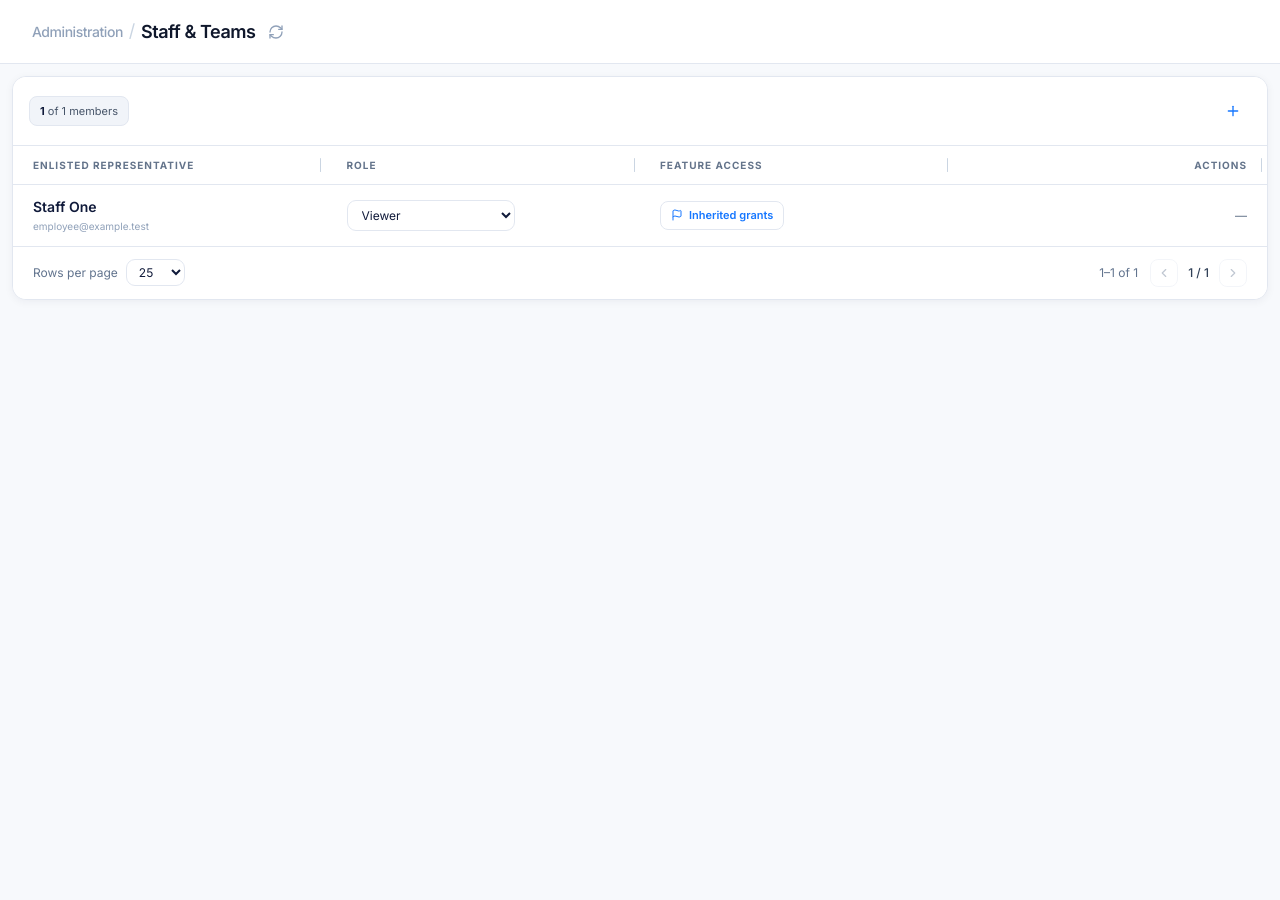
Staff & Teams rendered workspace permissions › does not offer organization or elevated workspace roles to a Workspace Manager
Click the button "Inherited grants" at (722, 215), box 660,201 -> 784,230
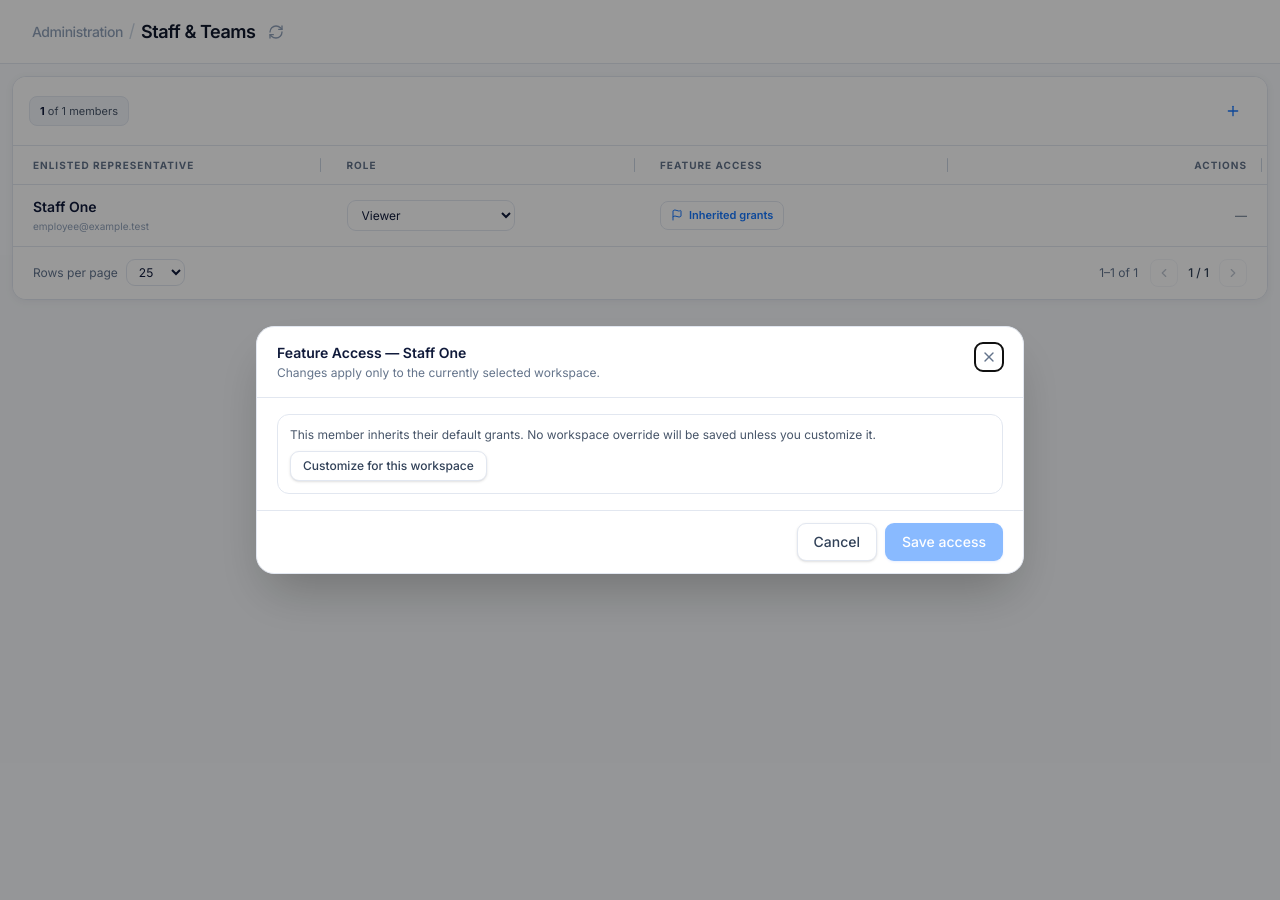
expect the text "inherits their default grants" is shown: met, box 290,427 -> 876,442
expect the button "Save access" is disabled: met, box 885,523 -> 1003,561
